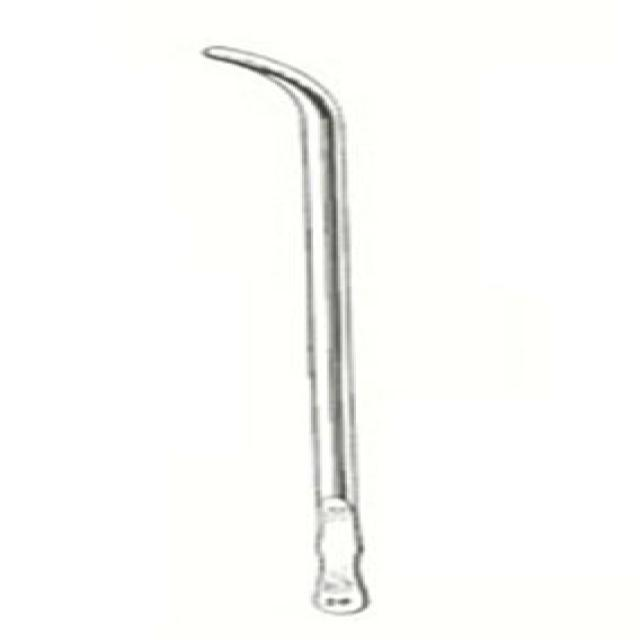Urethral Dilators: (186, 30, 400, 634)
